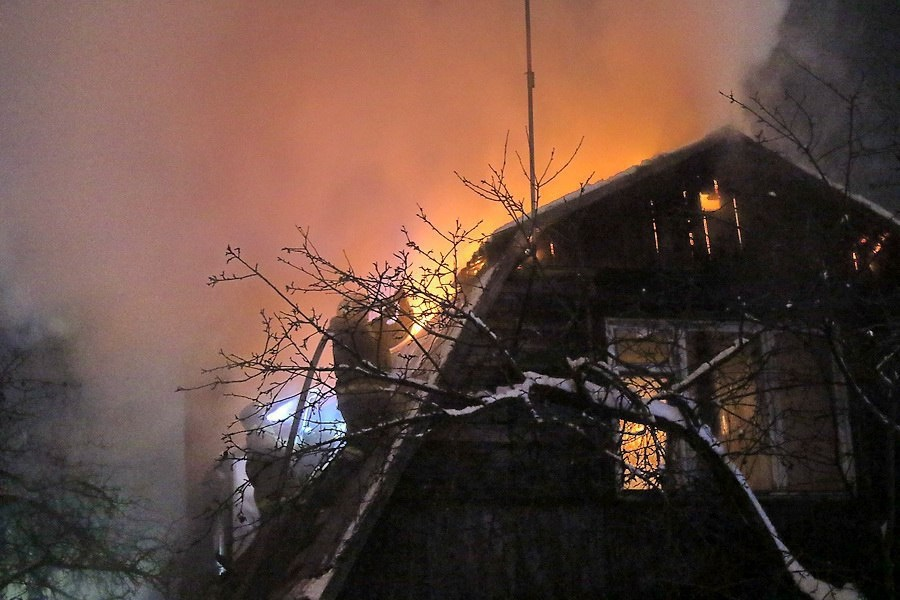fire: (1, 3, 663, 330)
